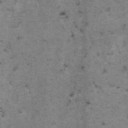oxide scale of temperature system: (42, 7, 128, 128), (6, 7, 26, 72), (0, 107, 6, 118), (24, 84, 30, 88)
